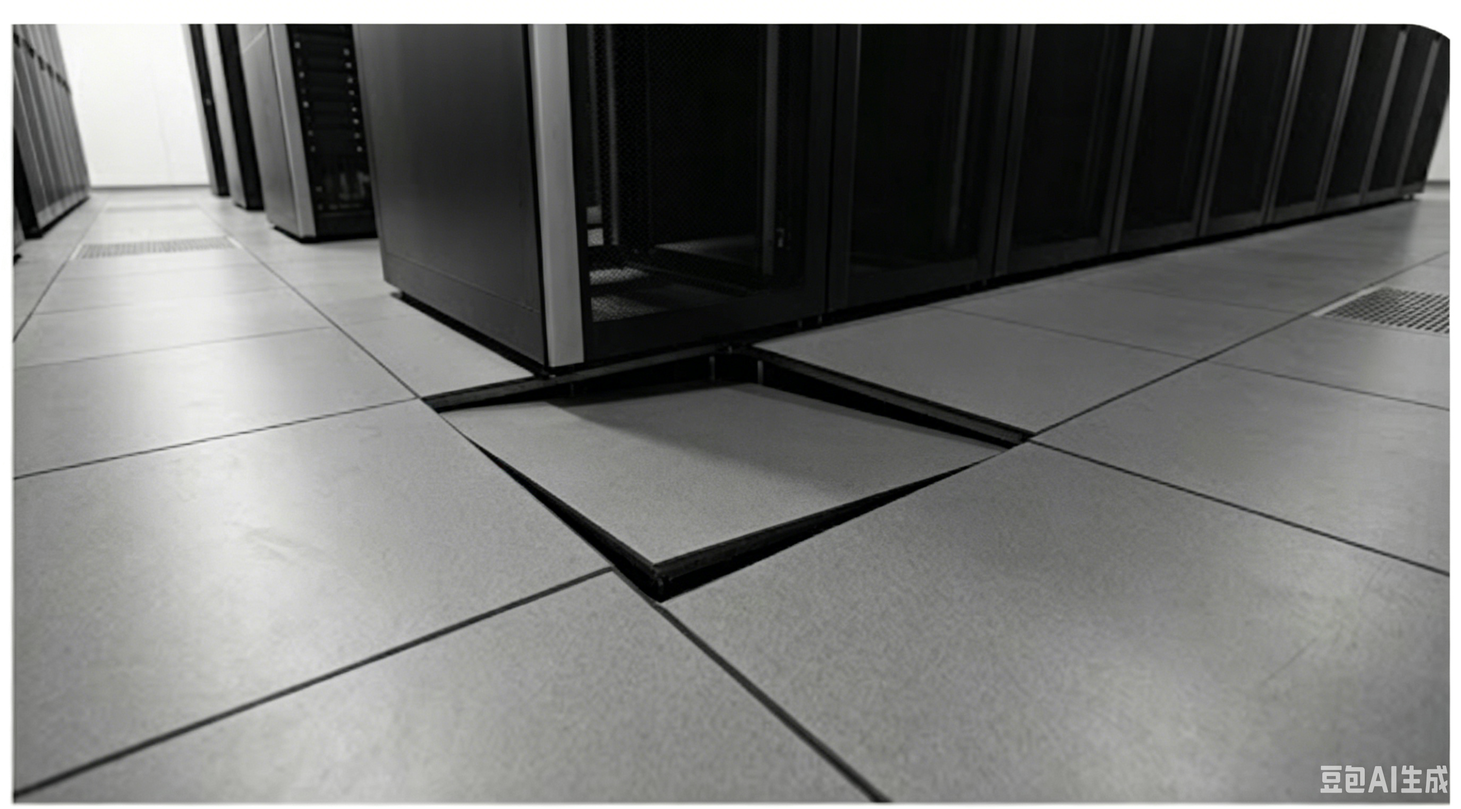floor_defect: (412, 346, 1044, 614)
